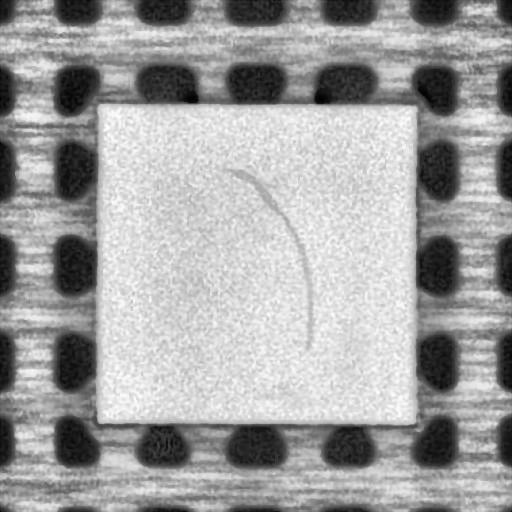DIE_CRACK: (229, 165, 313, 348)
